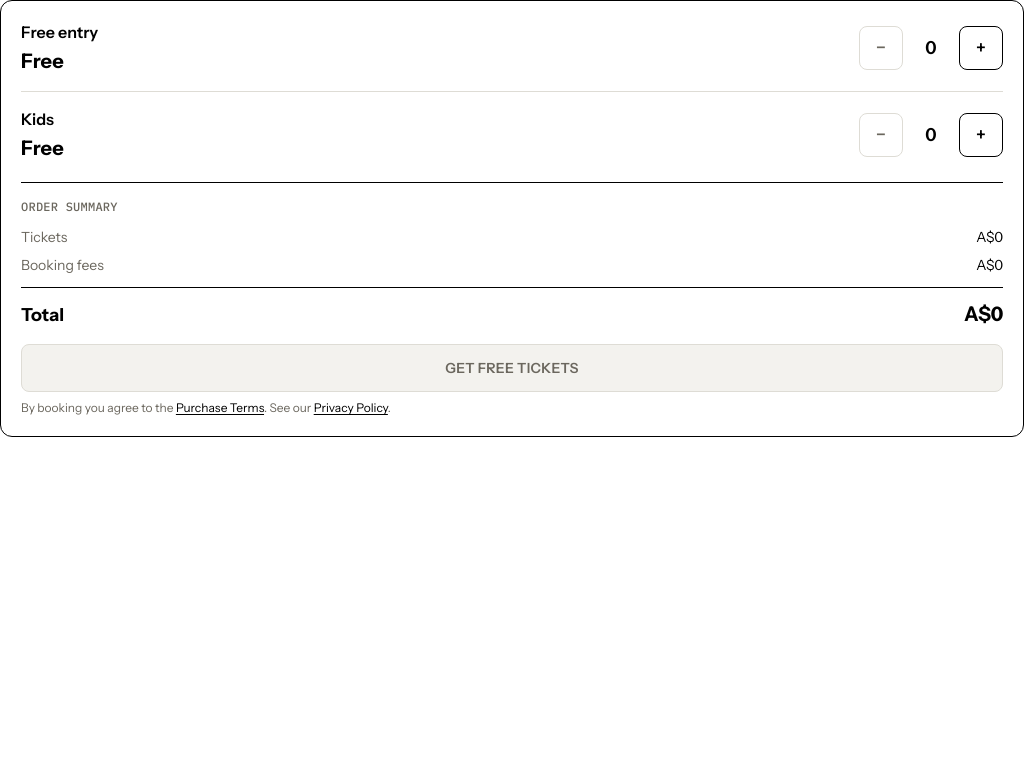
TicketSelector (free tickets) › explains how free tickets are issued, without promising they're instant
Click the button named "Increase quantity for Free entry".
click(981, 48)  # box [959, 26, 1003, 70]
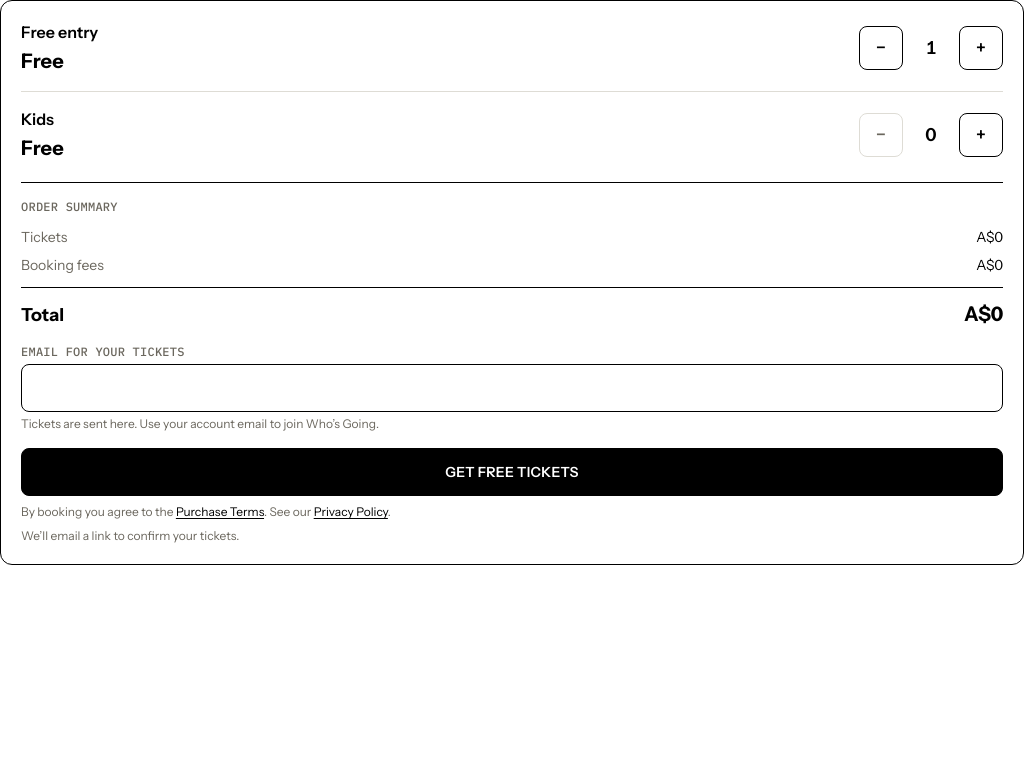
Expected: the text "We’ll email a link to confirm your tickets." is shown, [21, 528, 239, 543]
